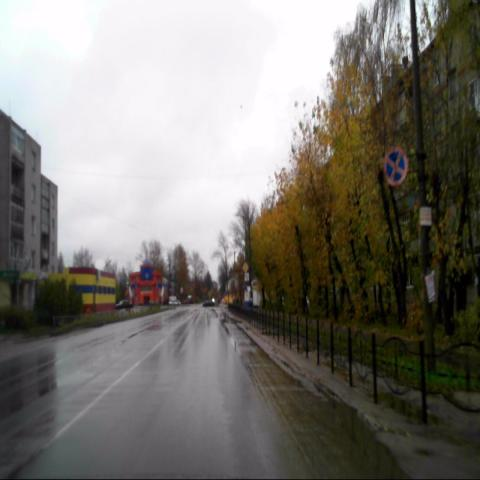3_27: (384, 145, 408, 186)
